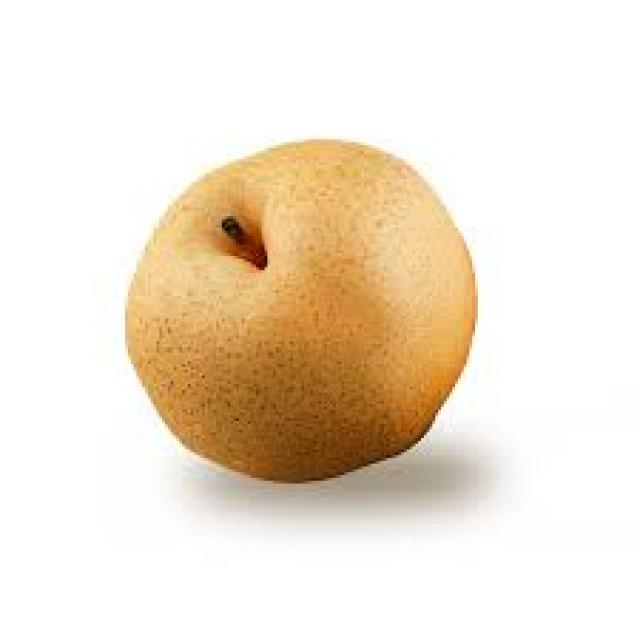Pear: (117, 117, 480, 492)
